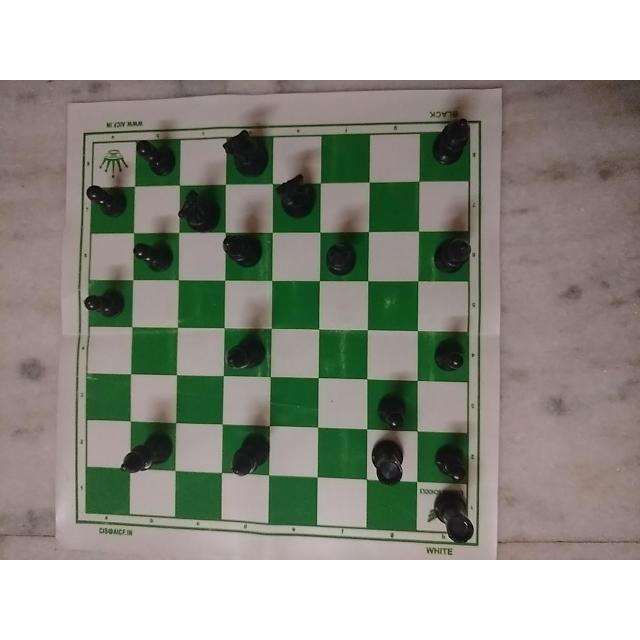black-bishop: (427, 107, 475, 171), (118, 428, 174, 477), (217, 334, 273, 378), (222, 426, 267, 480), (220, 230, 274, 270), (318, 234, 367, 275), (432, 234, 481, 275)
black-knight: (218, 125, 267, 179), (271, 173, 315, 223), (176, 184, 220, 234)
black-pawn: (130, 128, 174, 185), (77, 277, 127, 323), (80, 180, 132, 223), (373, 388, 417, 438), (433, 440, 474, 489), (128, 239, 178, 272), (431, 336, 469, 376)
black-rook: (427, 493, 479, 548), (370, 442, 410, 492)
